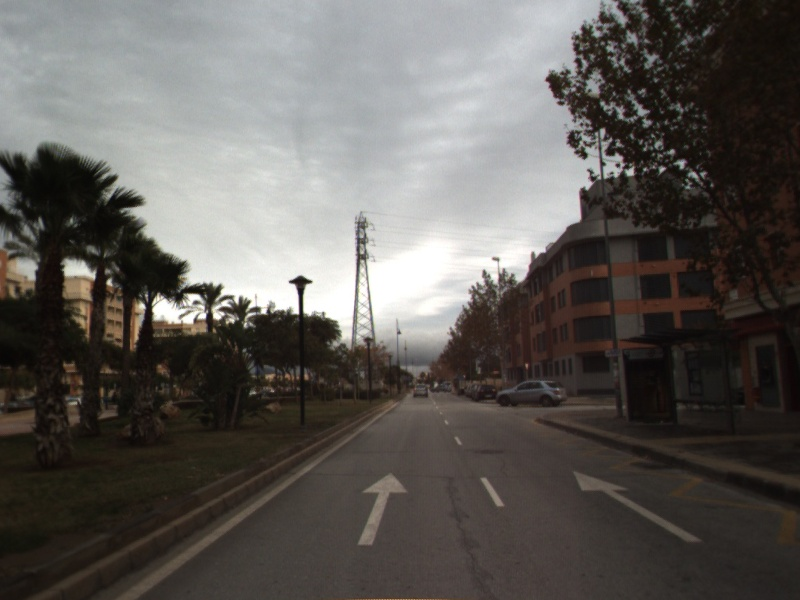STRAIGHT: (572, 470, 705, 544), (355, 471, 410, 547)
